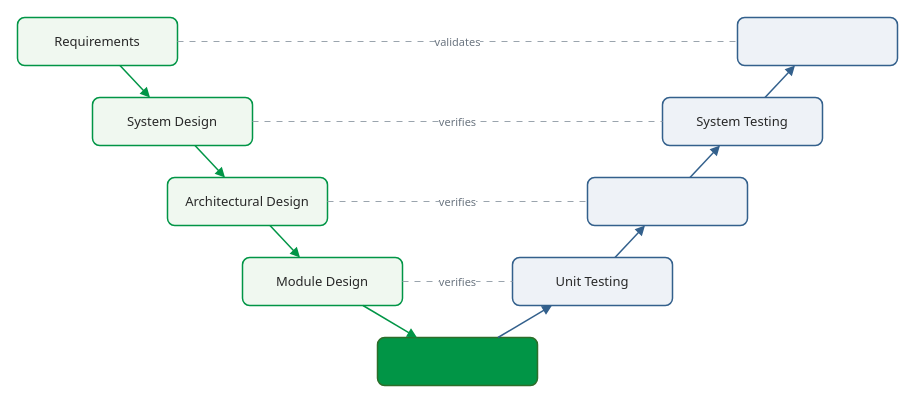
This 916x404 diagram has some shape labels left out. The centre of each missing label's shape, as x and y in pixels:
Acceptance Testing: the point at 817,41
Implementation: the point at 457,361
Integration Testing: the point at 667,201
